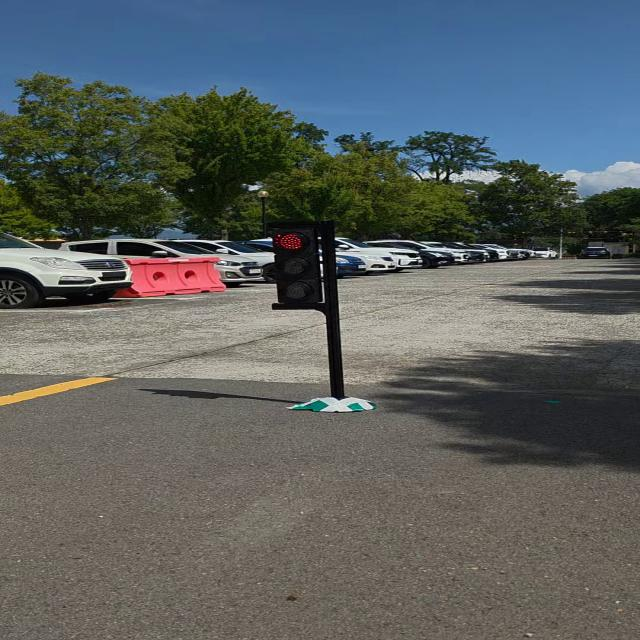red: (270, 220, 326, 309)
